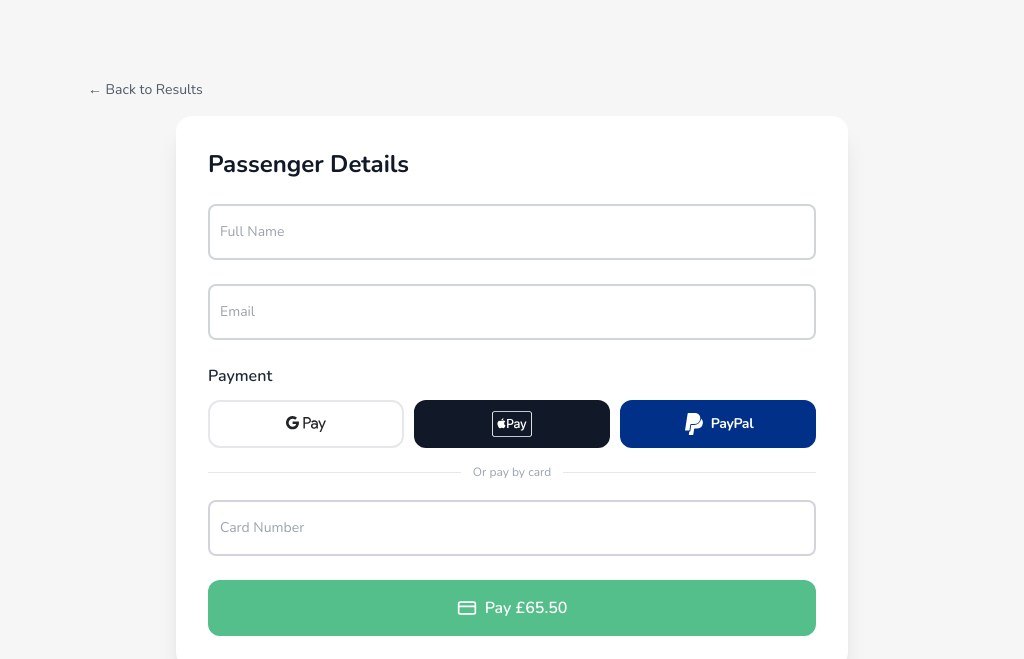
Test: CheckoutPage — error summary (QA-3) › error summary disappears after errors are resolved
Submit the form "Pay £", box [208, 204, 816, 636]
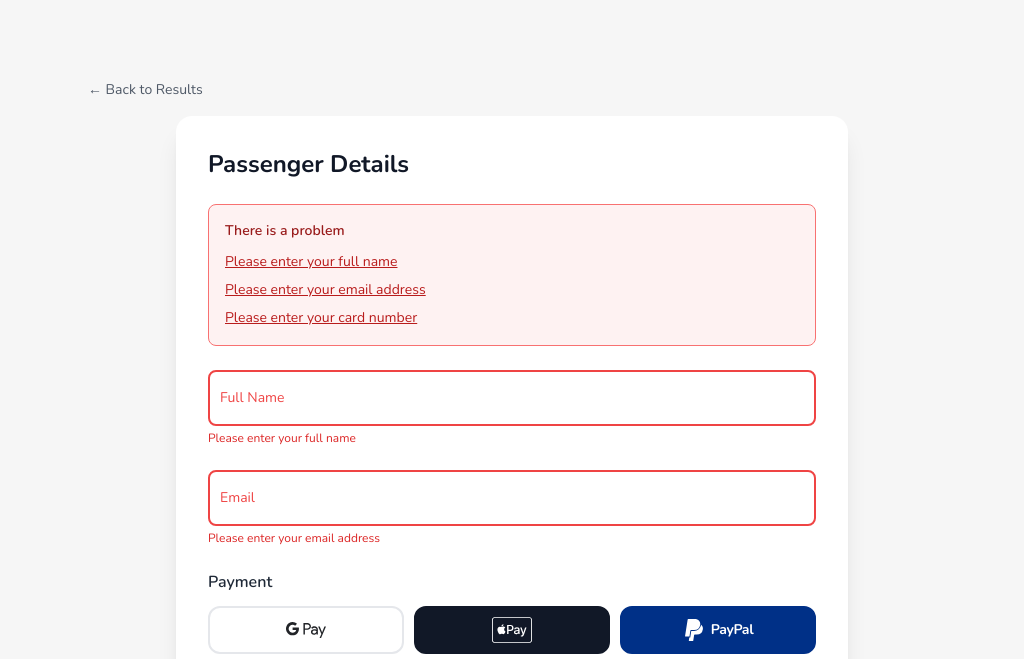
Check: the heading "There is a problem" is shown, box [225, 221, 345, 240]
// Typing in the name field clears the name error
In the field labelled "Full Name": x=512, y=398 [208, 370, 816, 426], type "John Smith"
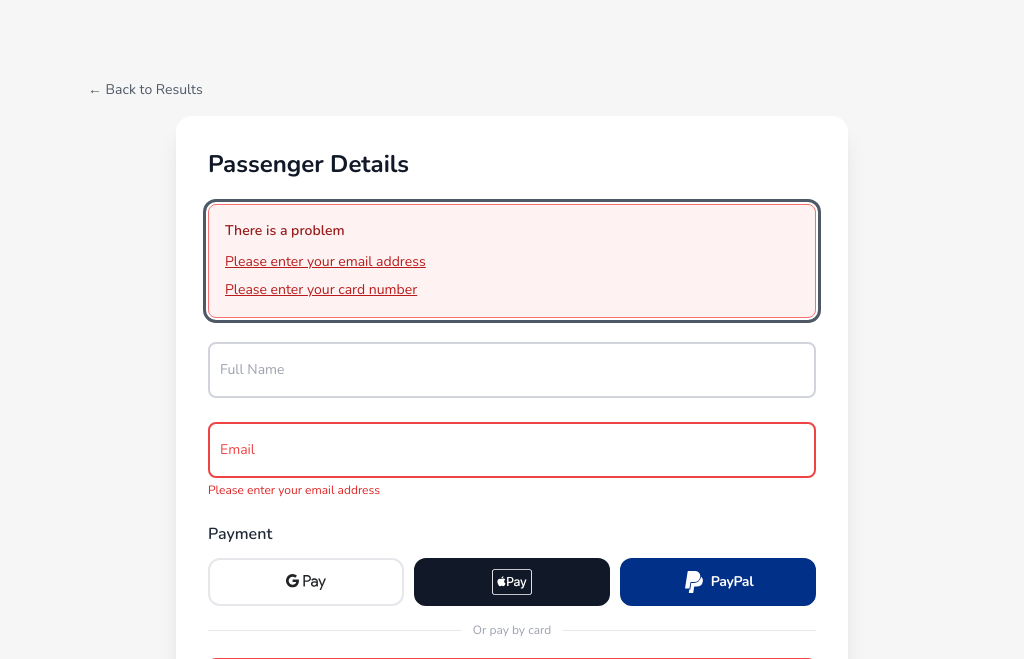
Check: the link "Please enter your full name" is gone
